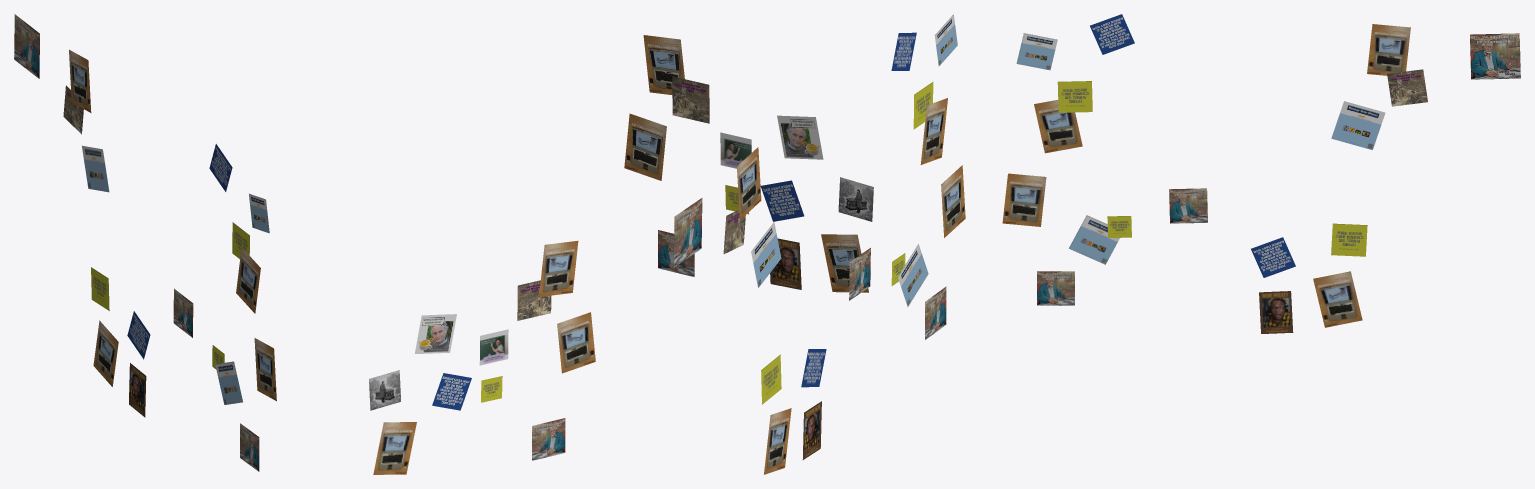
The model's file is meme_poster_achive.glb.
3 views of the same model, side by side, from view 1: azimuth 30°, elevation 25°; view 2: azimuth 150°, elevation 25°; view 3: azimuth 270°, elevation 25° (orthographic). The views are drawn at different scales.
Parts seen in each view (by area): view 1: Plane.043, Plane.017, Plane.020, Plane.040, Plane.045, Plane.026, Plane.034, Plane.046, Plane.033, Plane.036, Plane.042, Plane.024 (+11 smaller); view 2: Plane.017, Plane.043, Plane.040, Plane.020, Plane.042, Plane.045, Plane.033, Plane.036, Plane.034, Plane.046, Plane.025, Plane.024 (+14 smaller); view 3: Plane.045, Plane.034, Plane.033, Plane.046, Plane.036, Plane.047, Plane.035, Plane.032, Plane.044, Plane.029, Plane.048, Plane.030 (+5 smaller).
Boxes of the visible parts, x1,y1,x2,y2 form: Plane.043: (539,240,578,296); Plane.017: (557,312,595,373); Plane.020: (373,422,416,474); Plane.040: (415,314,456,353); Plane.045: (14,14,39,78); Plane.026: (532,418,565,460); Plane.034: (254,338,276,401); Plane.046: (69,49,91,112); Plane.033: (93,320,118,386); Plane.036: (236,247,260,313); Plane.042: (517,280,551,320); Plane.024: (432,373,471,410); Plane.017: (624,113,666,180); Plane.043: (643,35,684,94); Plane.040: (777,115,823,159); Plane.020: (821,234,868,292); Plane.042: (672,76,709,123); Plane.045: (673,198,702,267); Plane.033: (764,408,791,474); Plane.036: (920,98,947,164); Plane.034: (941,165,965,237); Plane.046: (737,147,761,219); Plane.025: (838,177,873,221); Plane.024: (760,180,804,221); Plane.045: (1470,33,1520,79); Plane.034: (1002,173,1046,226); Plane.033: (1313,271,1362,327); Plane.046: (1367,24,1410,75); Plane.036: (1034,100,1082,153); Plane.047: (1331,101,1385,149); Plane.035: (1069,215,1119,264); Plane.032: (1259,291,1293,333); Plane.044: (1169,188,1207,223); Plane.029: (1037,271,1074,305); Plane.048: (1387,69,1427,106); Plane.030: (1331,223,1367,256).
Size of the model in its own units: 2.91 by 2.92 by 4.29.
Materials: 28 (28 with a texture image).
